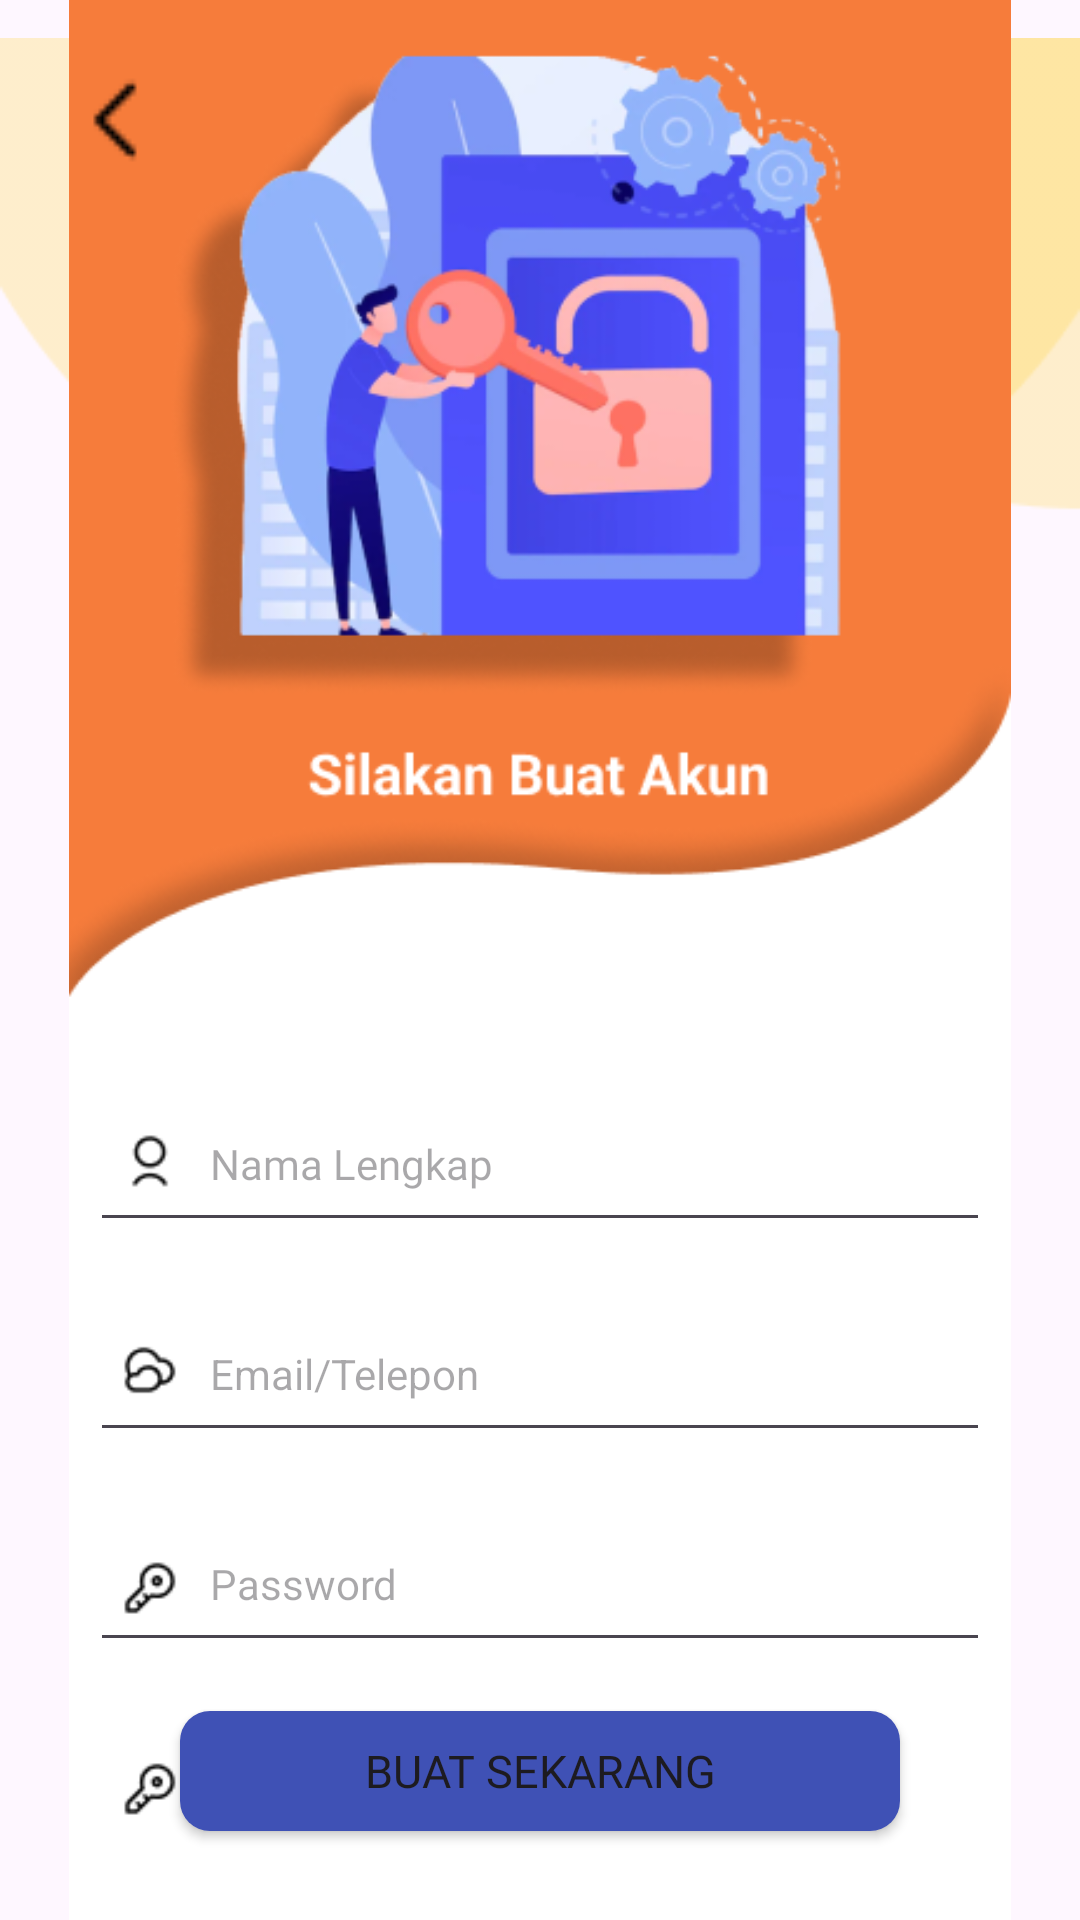

Icons on this 1080 x 1920 Android screen, each with the point to tap as point (x, y):
back: point (115, 120)
cloud: point (150, 1370)
key: point (150, 1588), point (150, 1789)
user: point (150, 1161)
